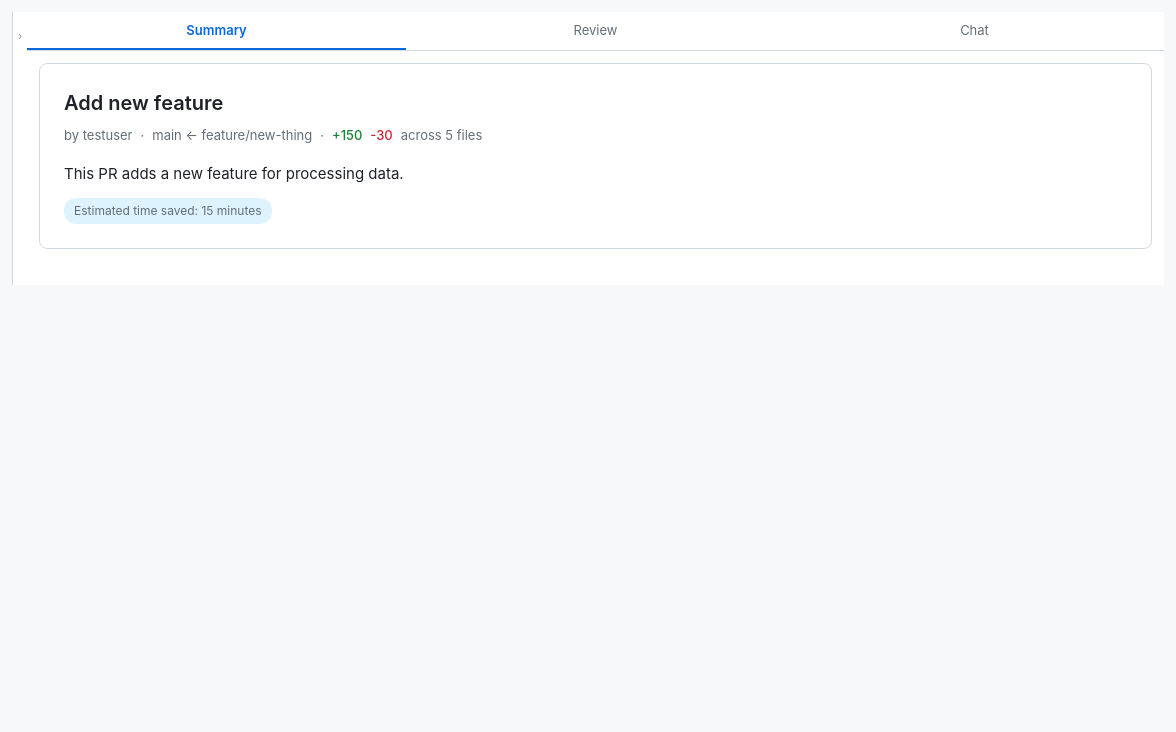
Test: RightRail › switches to Review tab and shows review form
Click the button "Review".
click(596, 31)  # box [406,12,785,50]
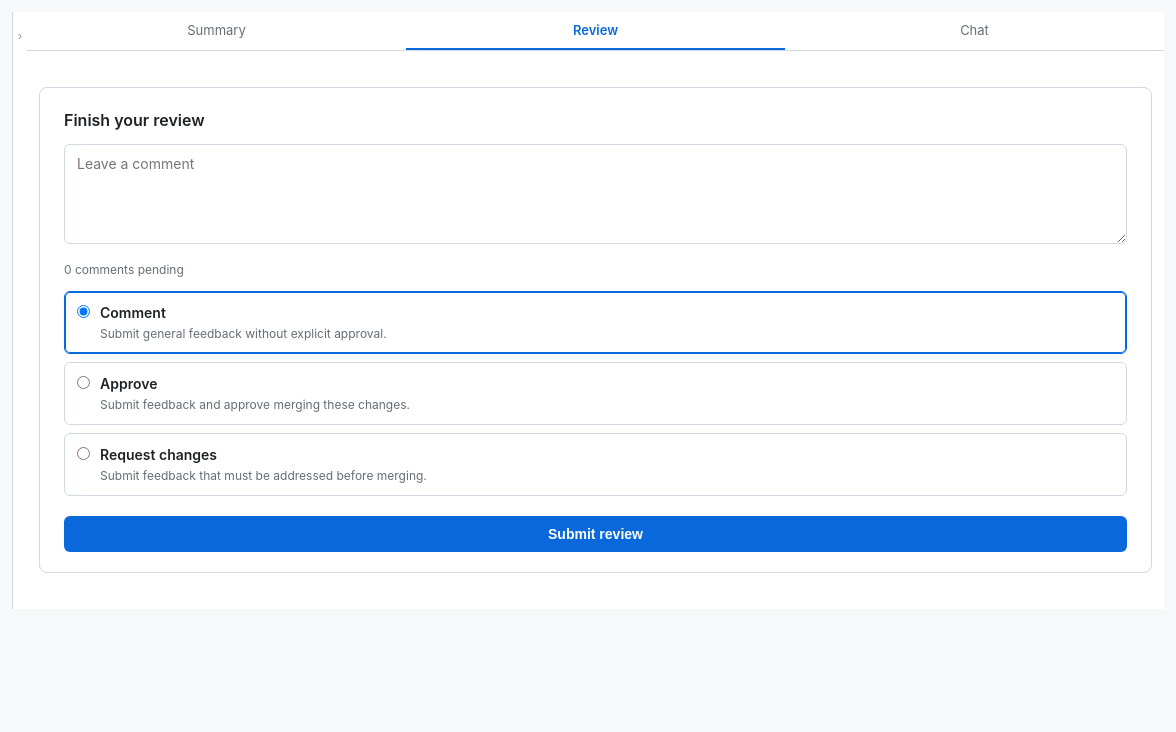
Check: the heading "Finish your review" is shown, box [64,110,205,130]
